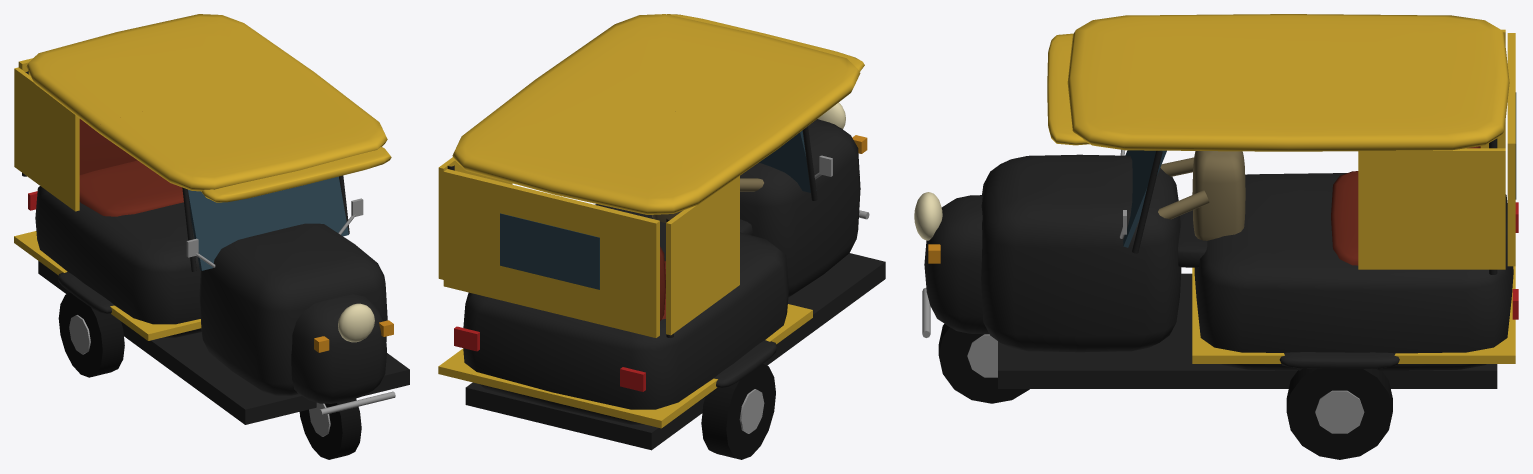
The model's file is auto_black.glb.
3 views of the same model, side by side, from view 1: azimuth 30°, elevation 25°; view 2: azimuth 150°, elevation 25°; view 3: azimuth 270°, elevation 25° (orthographic). The views are drawn at different scales.
Parts seen in each view (by area): view 1: auto_black; view 2: auto_black; view 3: auto_black.
Boxes of the visible parts, <box> form: auto_black: <box>14,14,409,459</box>; auto_black: <box>438,14,885,459</box>; auto_black: <box>914,14,1518,459</box>.
Bounding box in the file's own units: 1.48 × 1.75 × 2.95.
